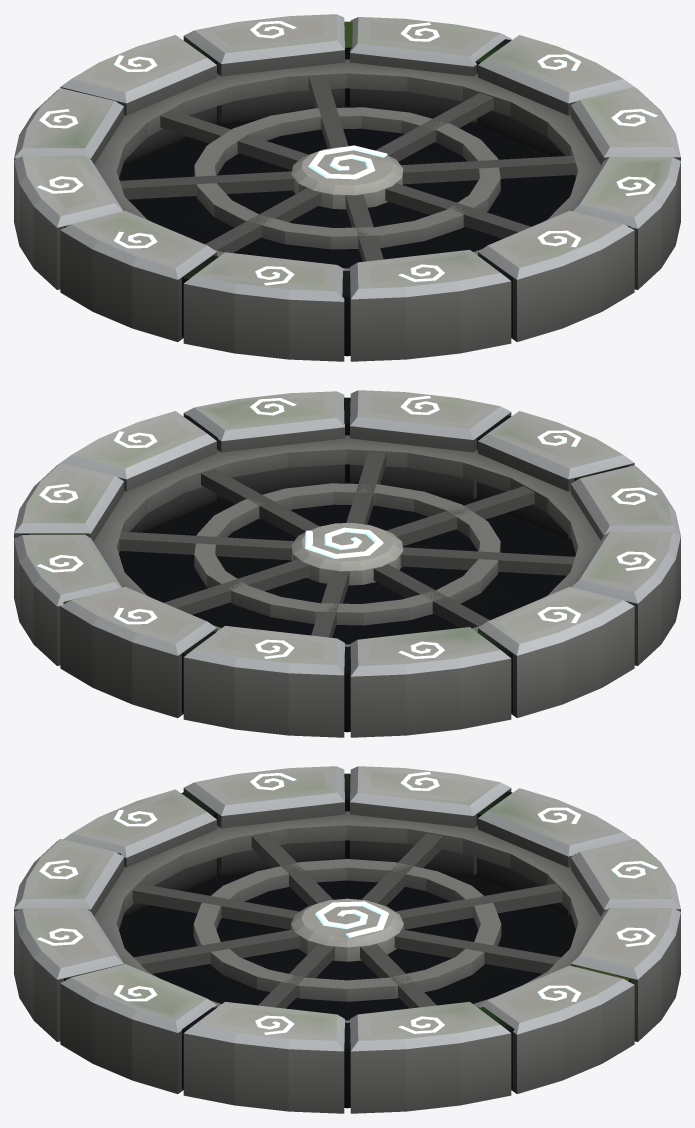
File: updraft_vent_mountain.glb
3 views of the same model, one above another, from view 1: azimuth 30°, elevation 25°; view 2: azimuth 150°, elevation 25°; view 3: azimuth 270°, elevation 25° (orthographic).
Parts seen in each view (by area): view 1: updraft_vent_mountain; view 2: updraft_vent_mountain; view 3: updraft_vent_mountain.
Part boxes in pixels (bbox=[...]): updraft_vent_mountain: bbox=[14, 14, 680, 361]; updraft_vent_mountain: bbox=[14, 390, 680, 737]; updraft_vent_mountain: bbox=[14, 766, 680, 1113].
Size of the model in its own units: 2.6 by 0.3 by 2.6.
